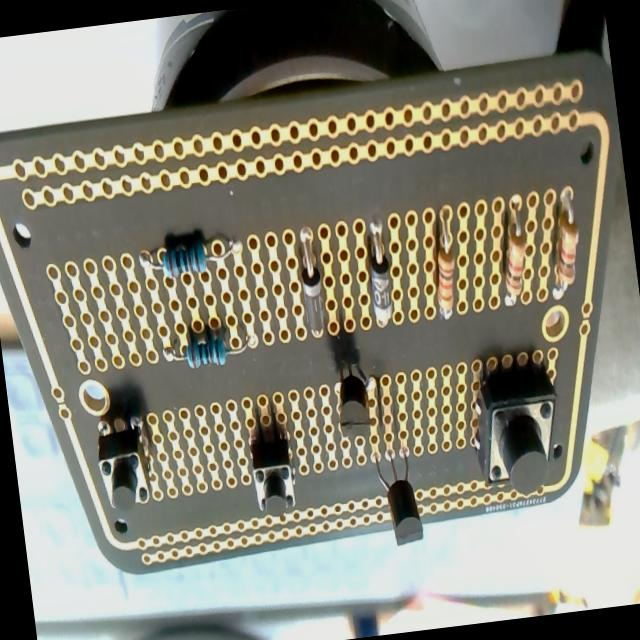diode: (356, 203, 405, 345), (288, 211, 332, 348)
resistor: (478, 180, 536, 322), (532, 163, 584, 309), (128, 222, 247, 283), (419, 198, 471, 330), (154, 316, 260, 379)
switch: (468, 358, 572, 497), (91, 422, 164, 528), (244, 436, 302, 528)
transistor: (358, 432, 437, 556), (326, 350, 382, 447)
